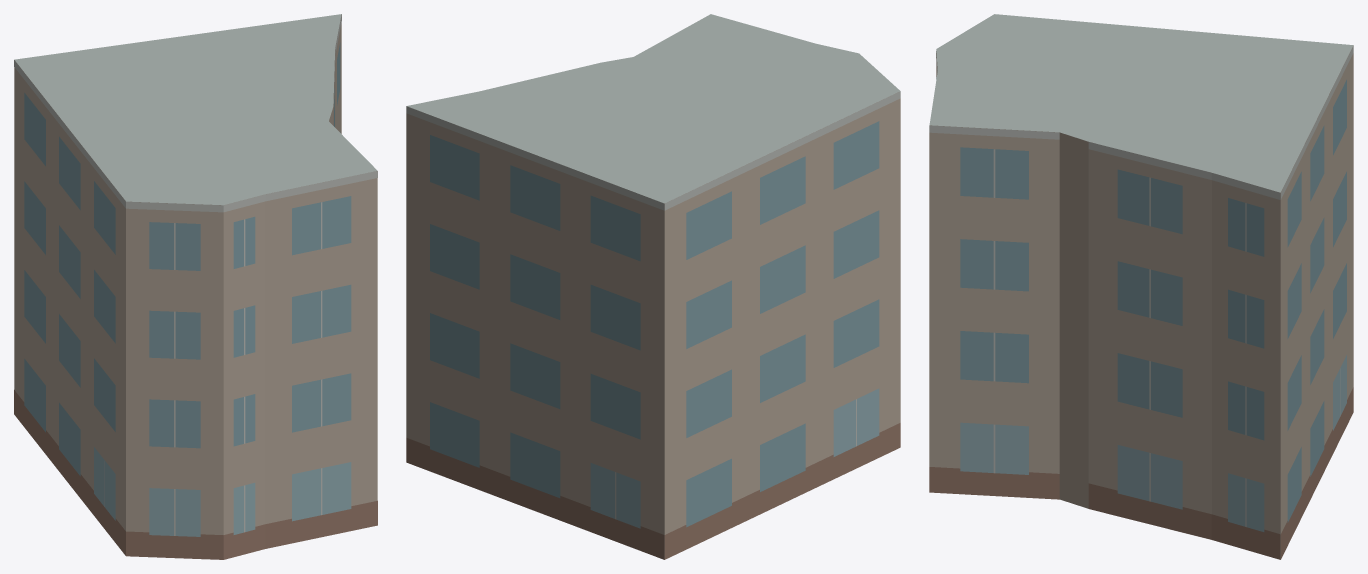
File: survey-upis-32971282.glb
3 renders of one model, left to right at view 1: azimuth 30°, elevation 25°; view 2: azimuth 150°, elevation 25°; view 3: azimuth 270°, elevation 25°, orthographic. The views are drawn at different scales.
Visible parts, largest first — view 1: survey-upis-32971282.tmp; view 2: survey-upis-32971282.tmp; view 3: survey-upis-32971282.tmp.
Part boxes in pixels (bbox=[...]): survey-upis-32971282.tmp: bbox=[14, 14, 377, 559]; survey-upis-32971282.tmp: bbox=[406, 14, 900, 559]; survey-upis-32971282.tmp: bbox=[929, 14, 1353, 559].
Size of the model in its own units: 12.64 by 12.1 by 12.68.
